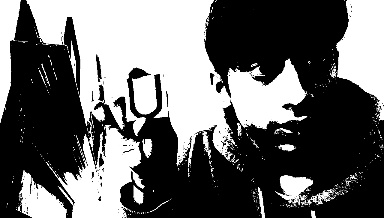U: (124, 74, 166, 117)
